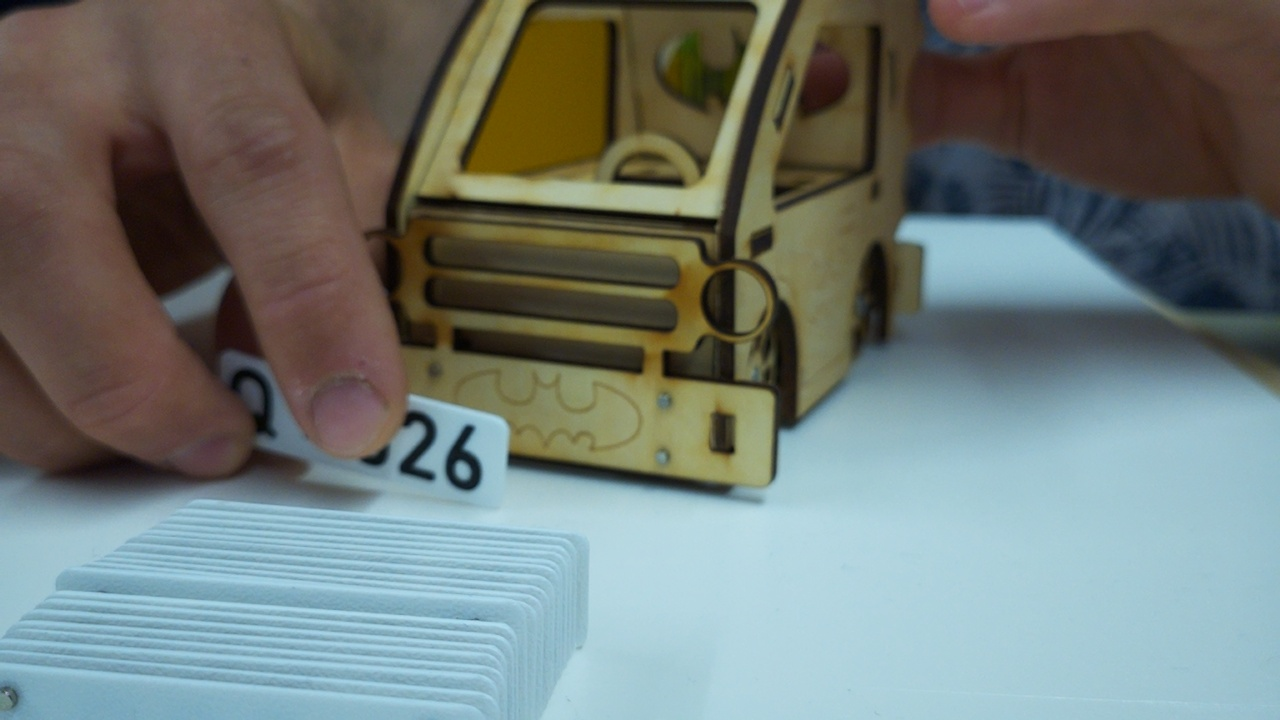license_plate: (215, 346, 515, 507)
